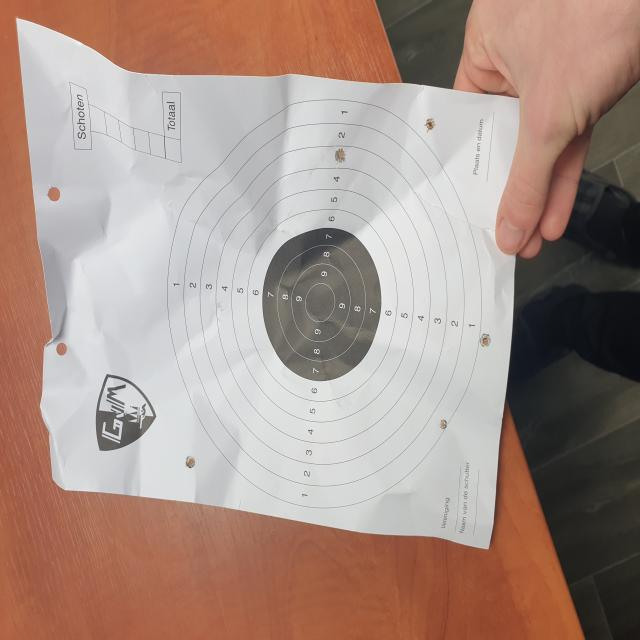0: (479, 332, 491, 348), (424, 117, 435, 133), (185, 456, 195, 470)
1: (439, 418, 447, 430)
3: (335, 147, 346, 165)
Target: (166, 96, 484, 508)
black_contour: (262, 228, 382, 381)
